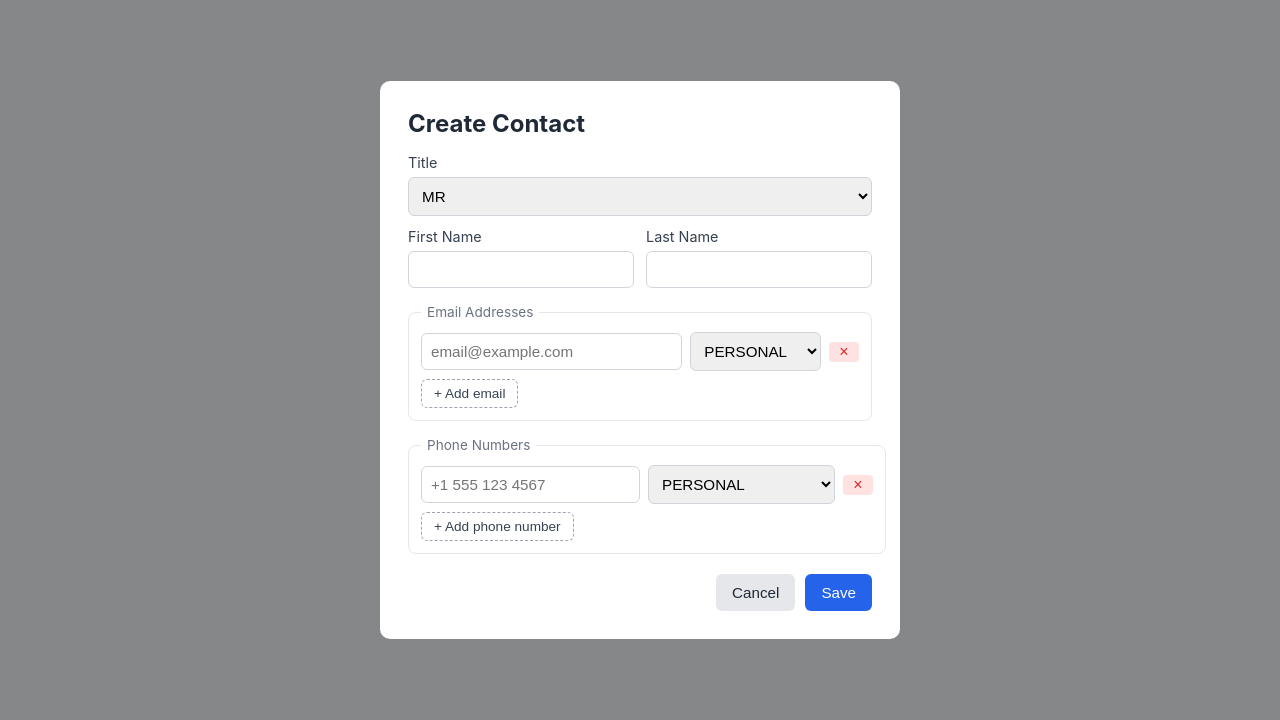
Test: ContactFormModal › adds another email row when "Add email" is clicked
The image size is (1280, 720).
Click the button "+ Add email". click: (470, 394)
box: [421,379,518,408]
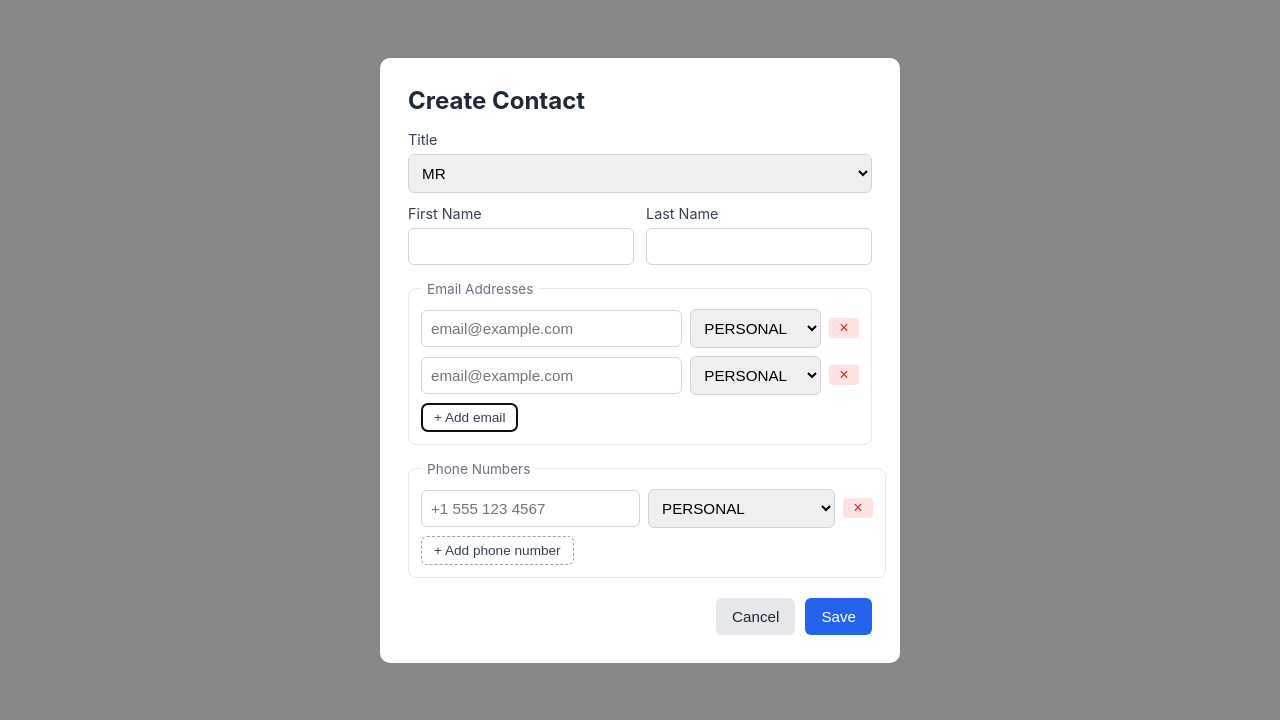
Check: the number of fields with placeholder "email@example.com" is 2, box [421,310,682,346]; [421,356,682,394]
